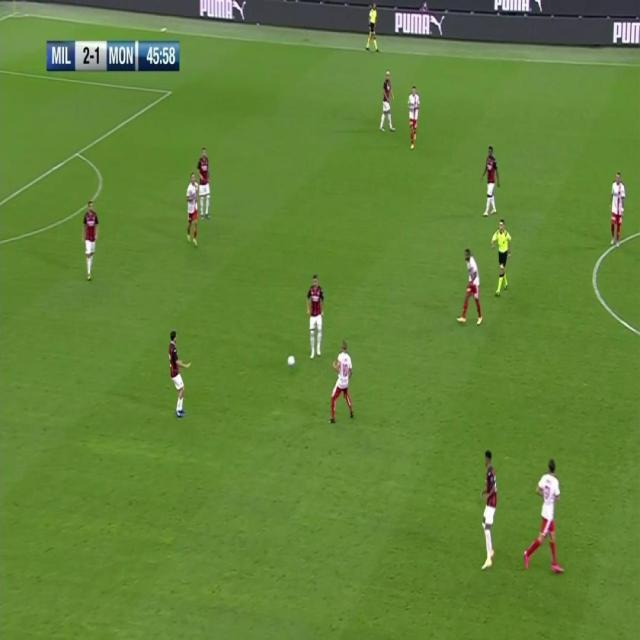ball: (287, 353, 297, 367)
player: (524, 458, 566, 579), (478, 447, 500, 573), (167, 330, 193, 419), (457, 246, 485, 326), (330, 339, 356, 425), (306, 271, 327, 360), (81, 199, 100, 283), (608, 168, 627, 249), (481, 142, 501, 217), (184, 173, 201, 248), (378, 70, 397, 134), (197, 146, 213, 221), (405, 84, 421, 152)
referee: (491, 217, 513, 297), (365, 1, 380, 54)
